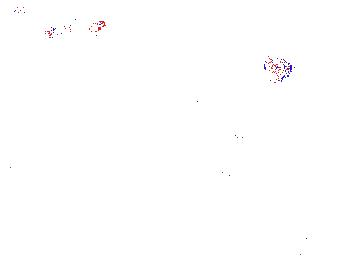X-ray fish: (262, 52, 296, 85), (320, 100, 346, 127)
red belly glassfish: (10, 6, 39, 20), (195, 31, 209, 57)
redtail glassfish: (45, 17, 106, 43), (221, 126, 244, 178)
siberian prawn: (31, 218, 114, 255)
